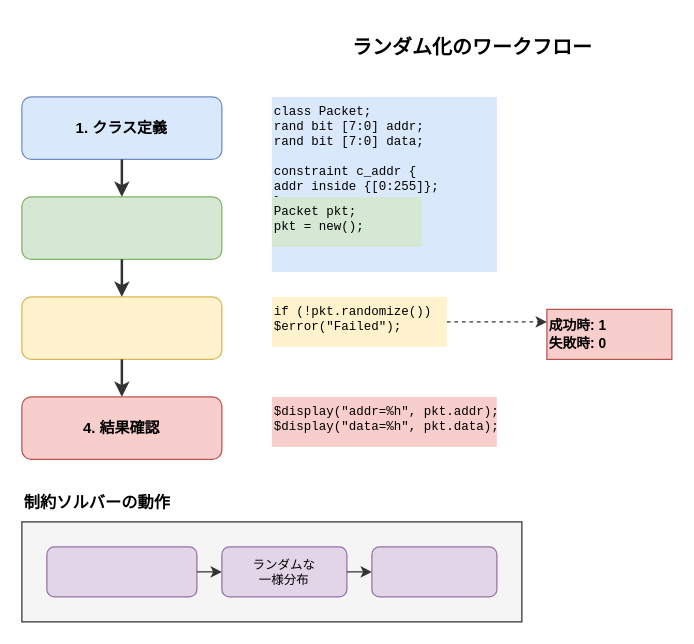
The diagram is 694 pixels wide and 644 high, and some of its shapes have lost their labels. The centre of each missing label's shape, as x and y in pixels:
2. インスタンス化: the point at 121,227
3. randomize(): the point at 121,327
フィールドに 値を代入: the point at 434,571
制約式を満たす 値の組み合わせを探索: the point at 121,571
